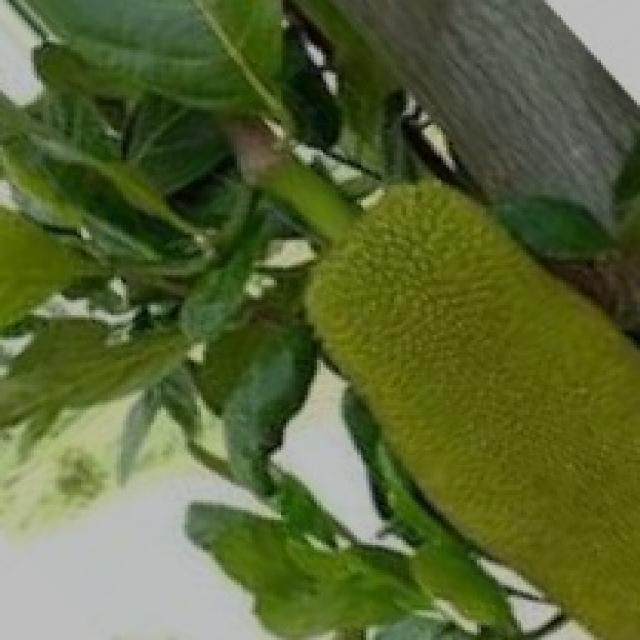Fruit: (283, 250, 640, 640), (0, 150, 89, 368)
